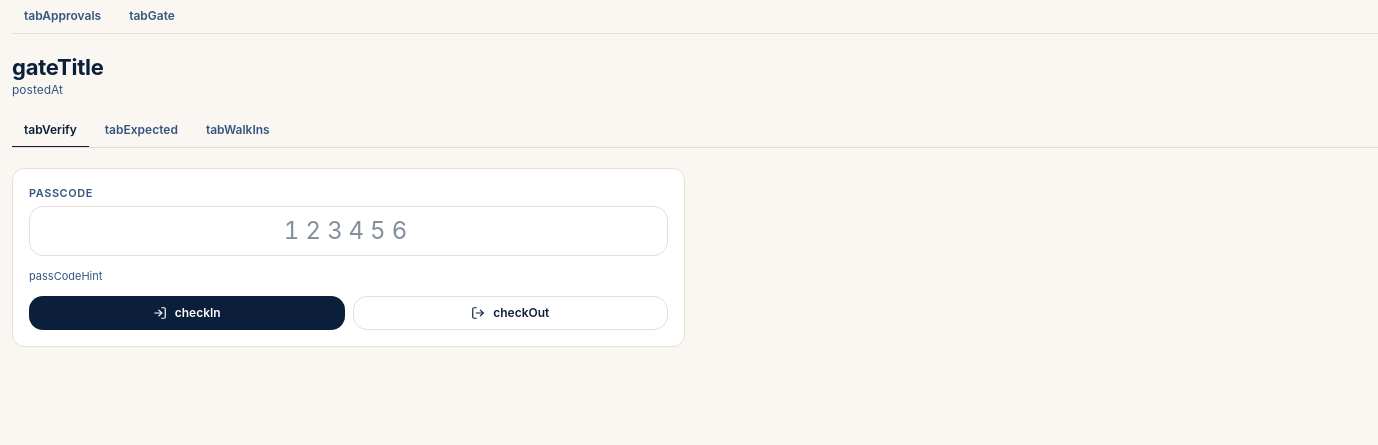
Test case: Gate desk › checks a numeric code in and shows the guest to compare
Type " 482913 " into the field with test id "gate-code" at (348, 231), box [29,206,668,256]
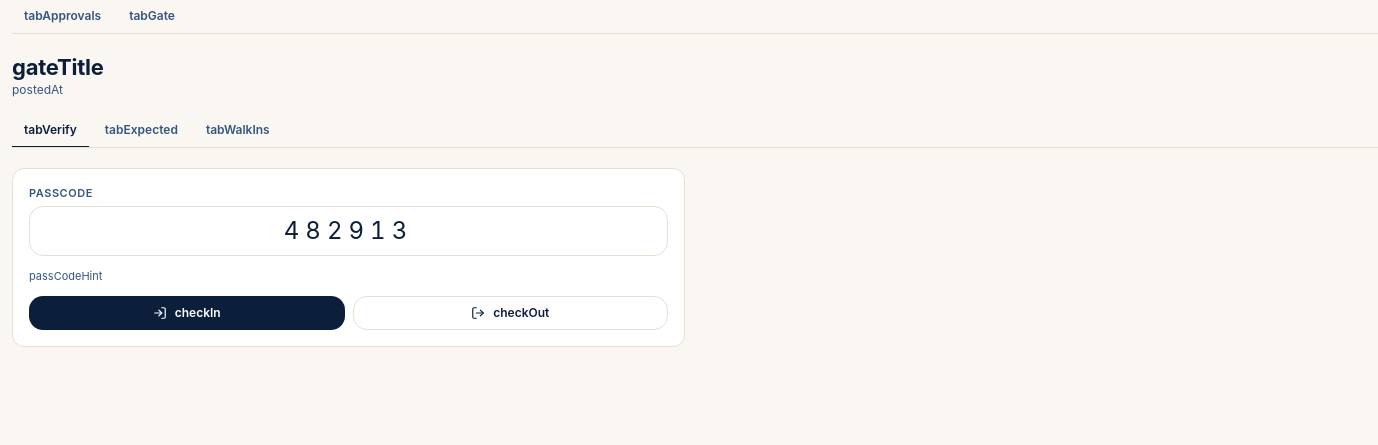
Click the button with test id "gate-check-in" at (187, 313), box [29,296,344,330]
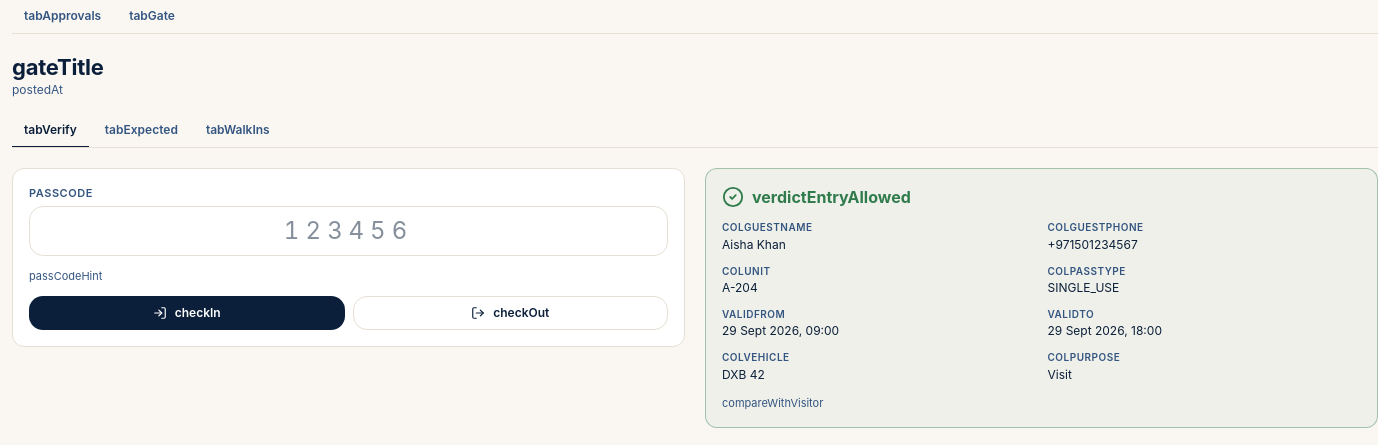
Expected: the text with test id "gate-verdict" reads "verdictEntryAllowed", [752,187,911,207]
Expected: the text "Aisha Khan" is shown, [722,237,786,252]
